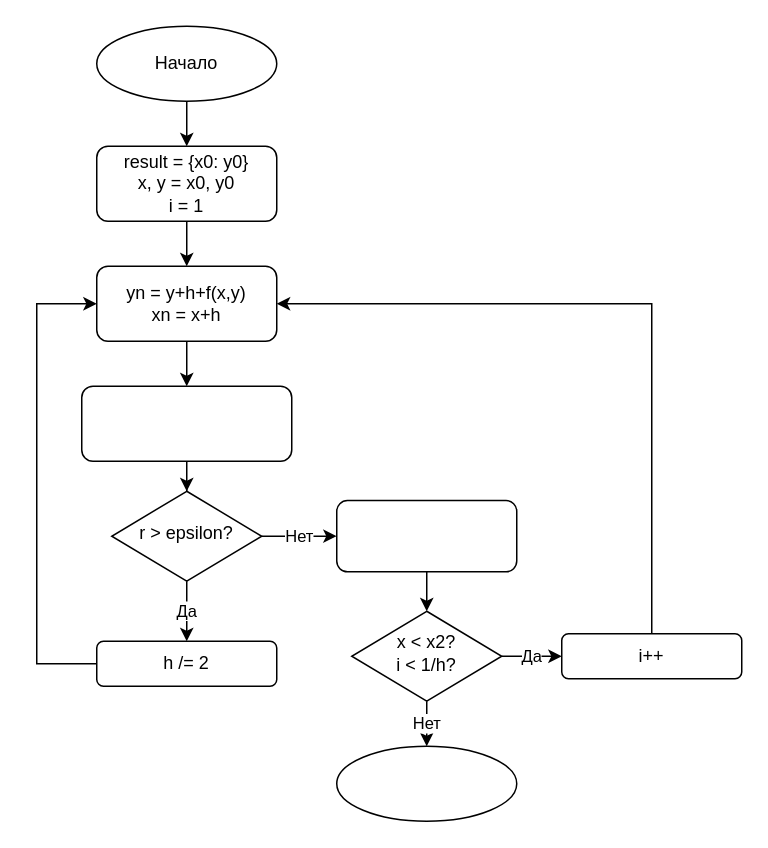
Image size: 768x848. Some labels were removed from this diagram. The centre of each missing label's shape, as x and y in pixels:
"y = yn x = xn result += {x: y}" belongs at (x=426, y=535).
"yh = y+h/2+f(x,y) yh = yh+h/2+f(x+h/2,yh) r = (yn-yh) / 2^2-1" belongs at (x=186, y=423).
"Конец" belongs at (x=426, y=783).
